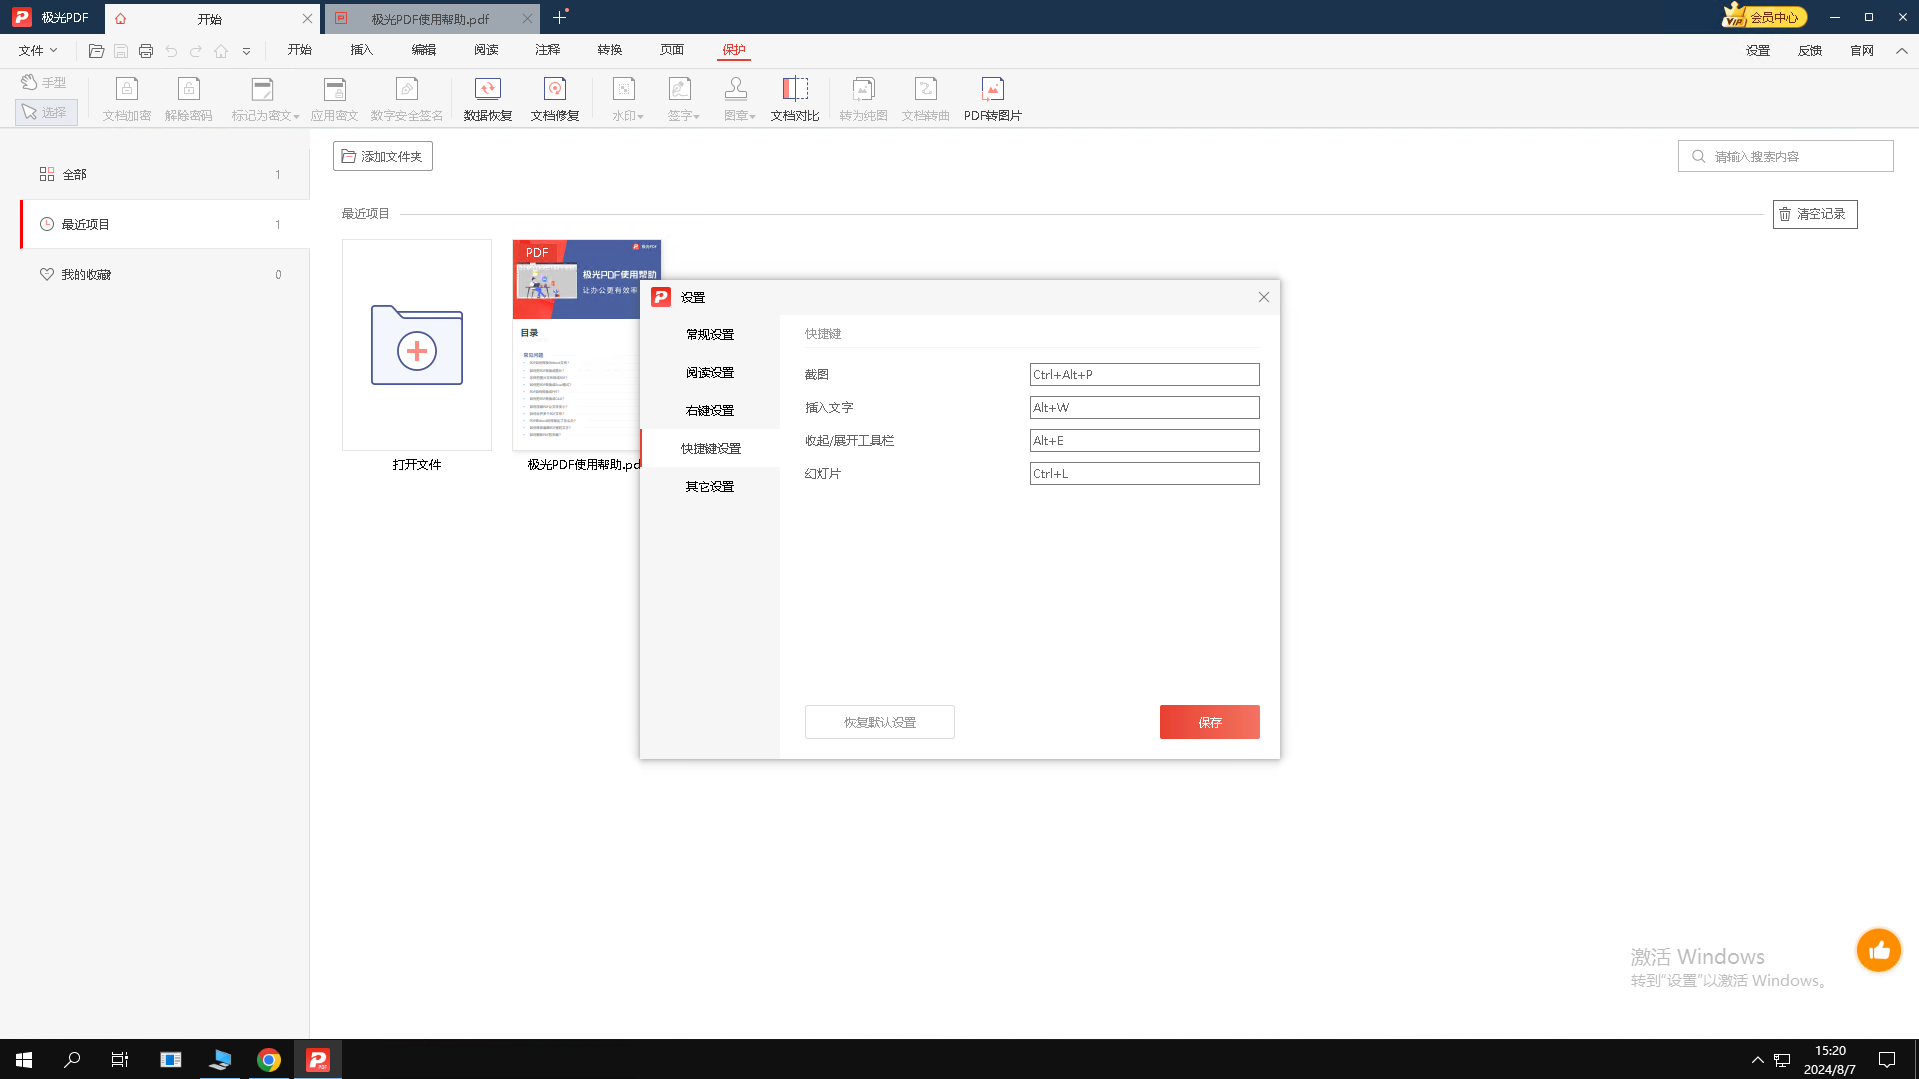Clickable: (1023, 390, 1265, 429), (1021, 422, 1267, 460), (1025, 451, 1261, 489), (1021, 358, 1264, 393), (641, 426, 783, 469), (638, 469, 782, 509), (641, 318, 782, 357), (639, 391, 782, 426), (641, 358, 782, 393), (1162, 701, 1263, 742), (1251, 285, 1277, 314)
Disabled: (808, 701, 958, 742)
Root: (641, 282, 1281, 758)
level_0: (780, 316, 1284, 758), (641, 315, 780, 756), (641, 282, 1282, 318)
